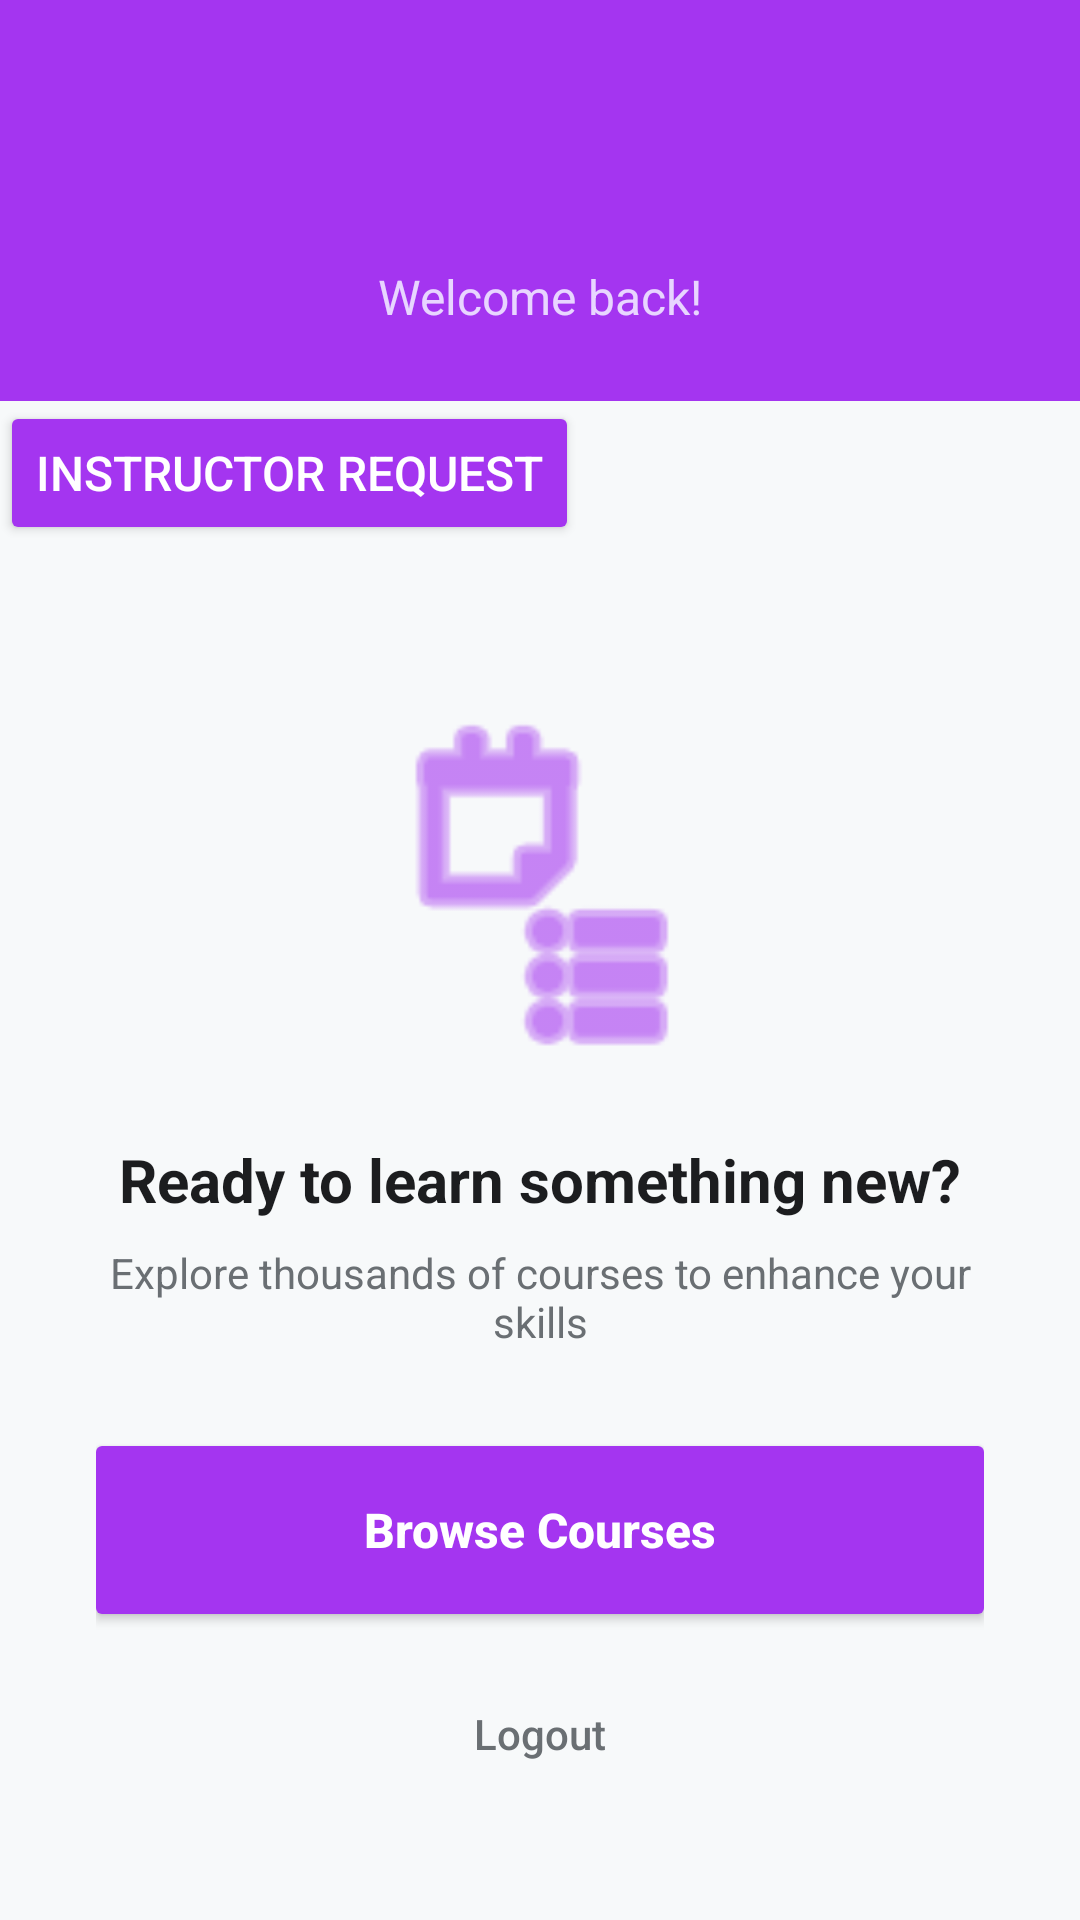

Icon bounding boxes for this 1080px x 1920px phone screenshot, format (x1=x1, y1=y1, x2=x2, y2=y2):
agenda: (x1=416, y1=725, x2=668, y2=1045)
